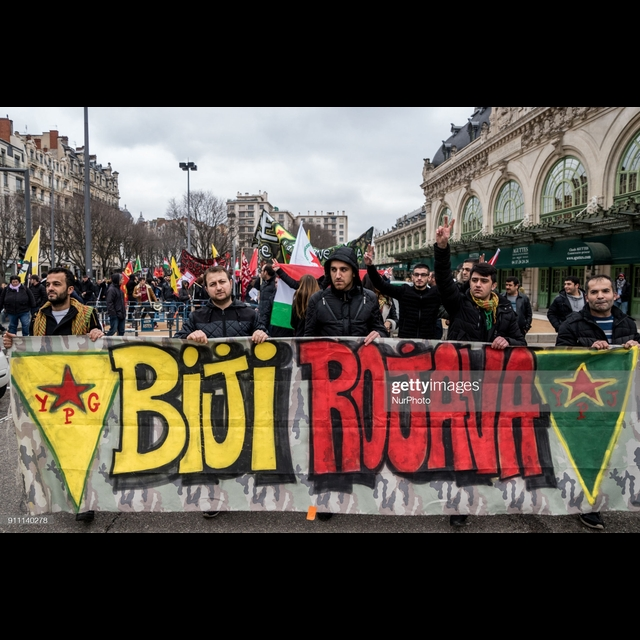YPG: (30, 363, 103, 433)
YPJ: (549, 354, 621, 439)
ZI: (430, 212, 457, 256), (362, 237, 377, 271)
